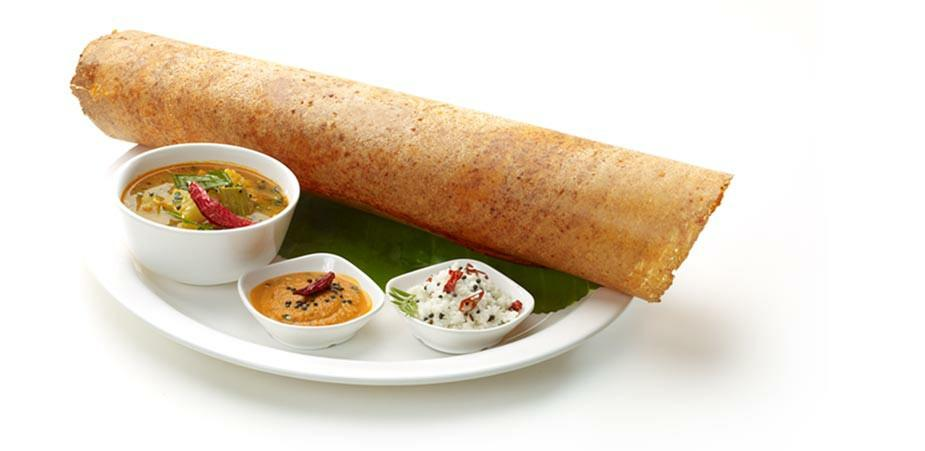CoconutChutney: (398, 262, 523, 330)
Dosa: (69, 32, 734, 304)
